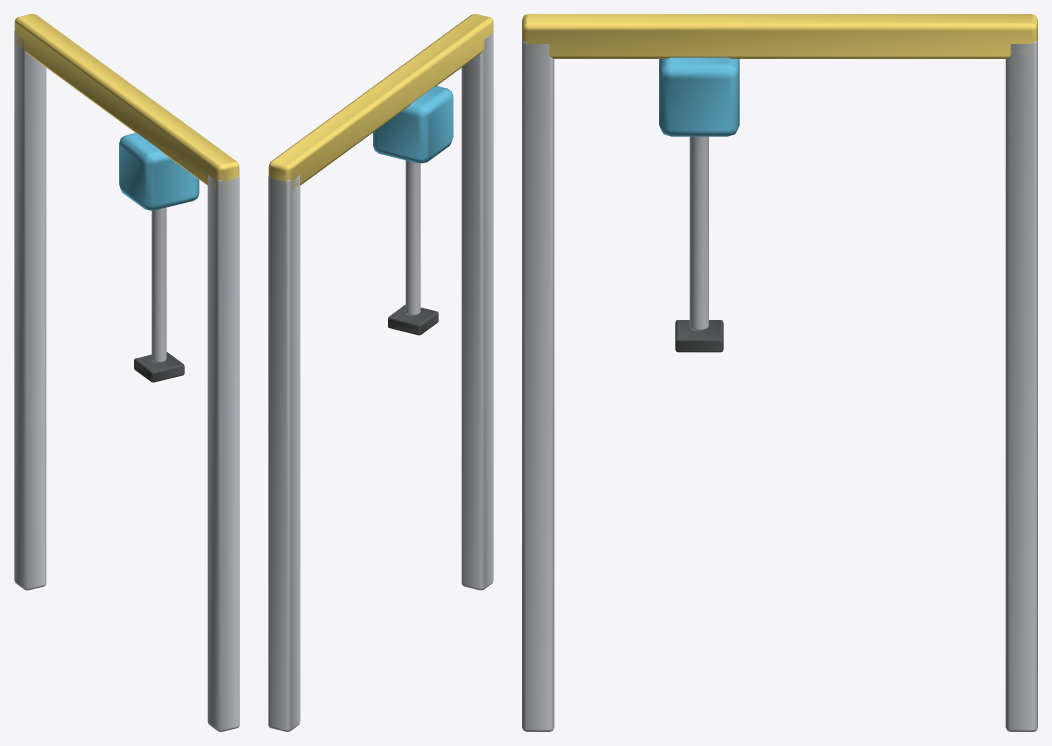
File: recolector.glb
3 renders of one model, left to right at view 1: azimuth 30°, elevation 25°; view 2: azimuth 150°, elevation 25°; view 3: azimuth 270°, elevation 25°, orthographic. The views are drawn at different scales.
Parts seen in each view (by area): view 1: poste-1, poste1, viga, carro, vastago, ventosa; view 2: poste1, poste-1, viga, carro, vastago, ventosa; view 3: poste-1, poste1, viga, carro, vastago, ventosa.
Boxes of the visible parts, <box> form: poste-1: <box>207,175,239,731</box>; poste1: <box>14,31,46,590</box>; viga: <box>14,14,239,190</box>; carro: <box>119,133,199,210</box>; vastago: <box>151,207,166,363</box>; ventosa: <box>134,352,184,382</box>; poste1: <box>268,175,300,731</box>; poste-1: <box>461,31,493,590</box>; viga: <box>268,14,493,189</box>; carro: <box>373,86,453,163</box>; vastago: <box>405,160,420,315</box>; ventosa: <box>388,305,438,335</box>; poste-1: <box>522,40,554,731</box>; poste1: <box>1005,40,1037,731</box>; viga: <box>522,14,1037,58</box>; carro: <box>659,57,739,136</box>; vastago: <box>689,136,708,331</box>; ventosa: <box>675,320,723,352</box>.
Size of the model in its own units: 0.1 by 0.97 by 0.64.
